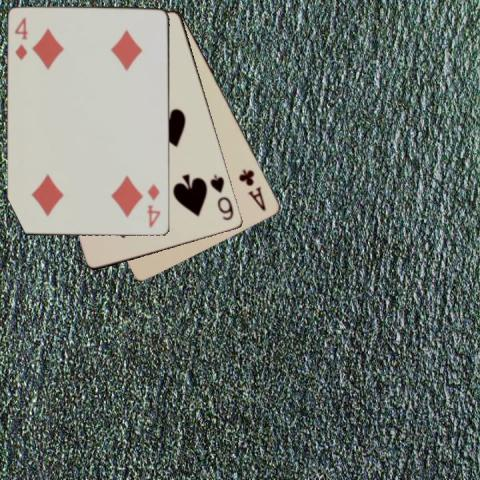4d: (144, 182, 162, 229), (12, 15, 29, 62)
6s: (208, 172, 236, 222)
Ac: (236, 166, 268, 213)
